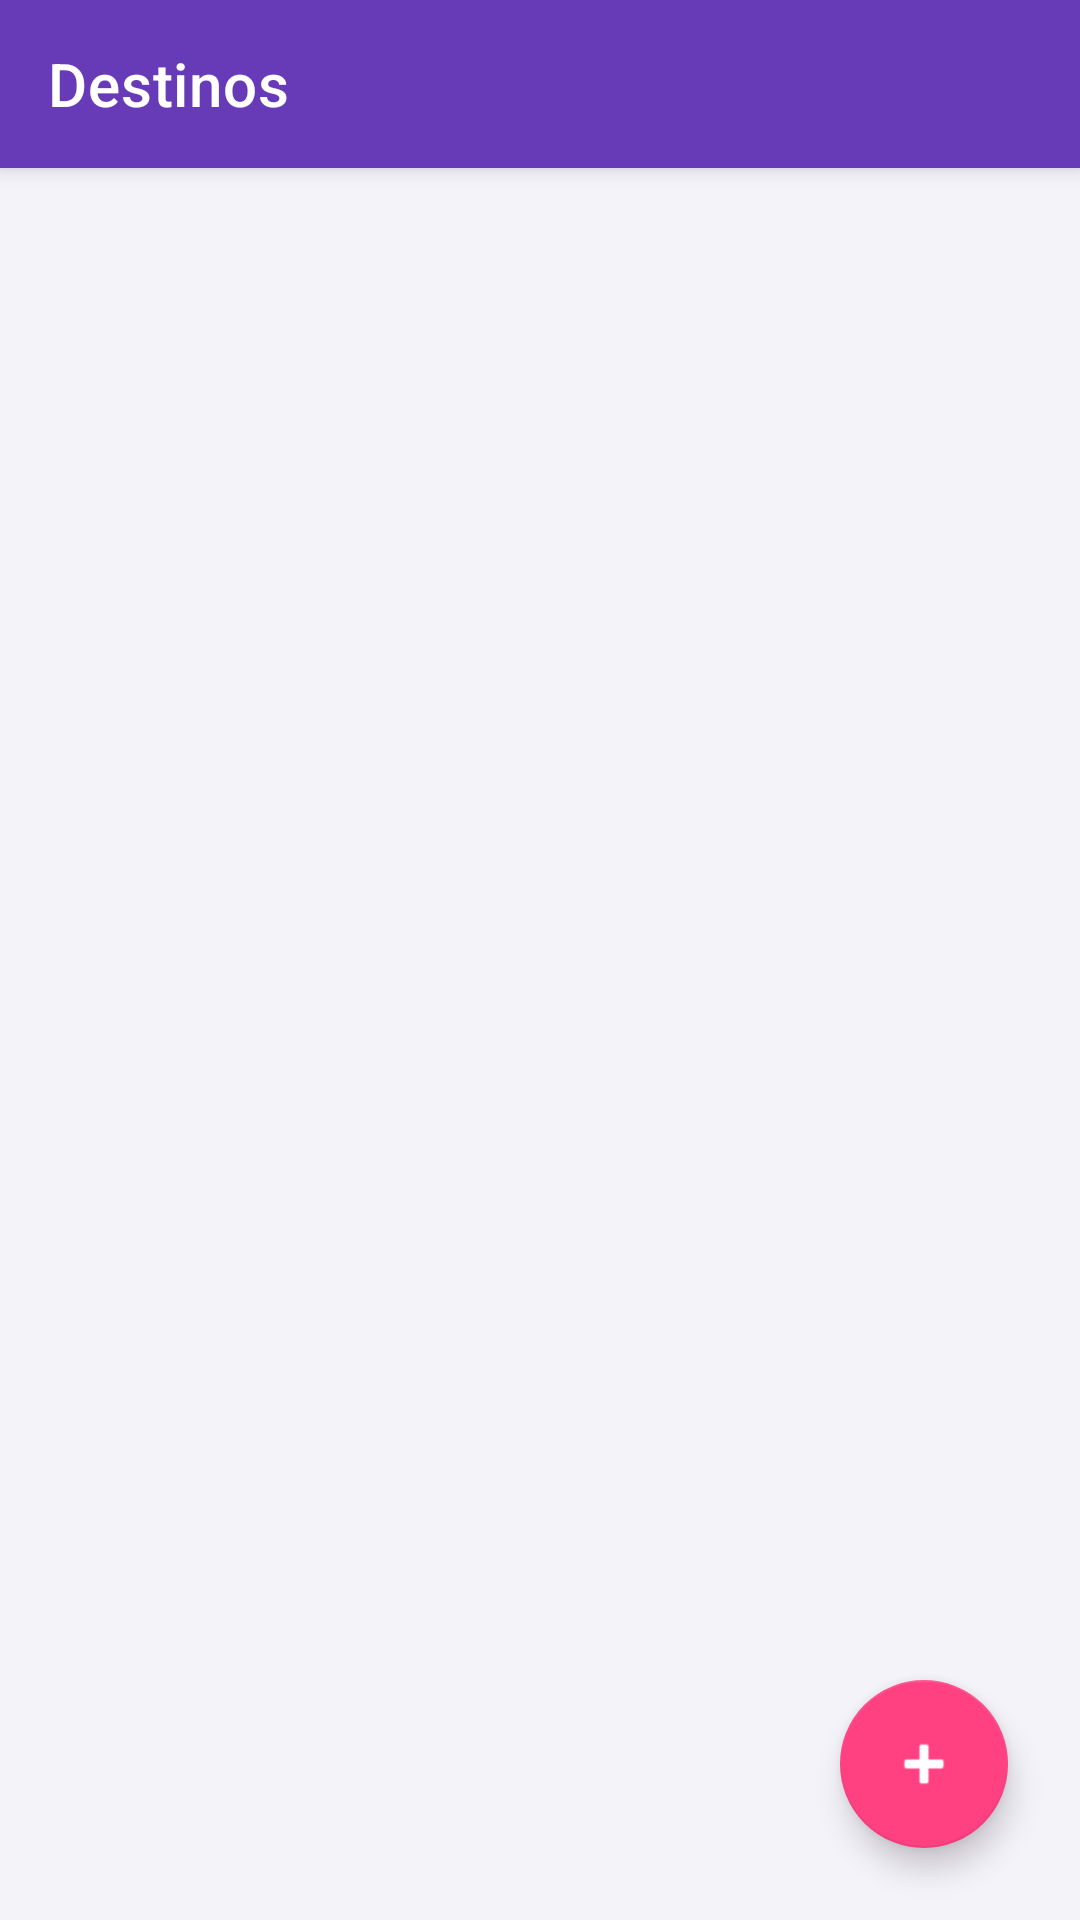

Where to tap for icons on this 1080 x 1920 app screen, as point (x, y):
Agregar Nuevo: point (924, 1764)
